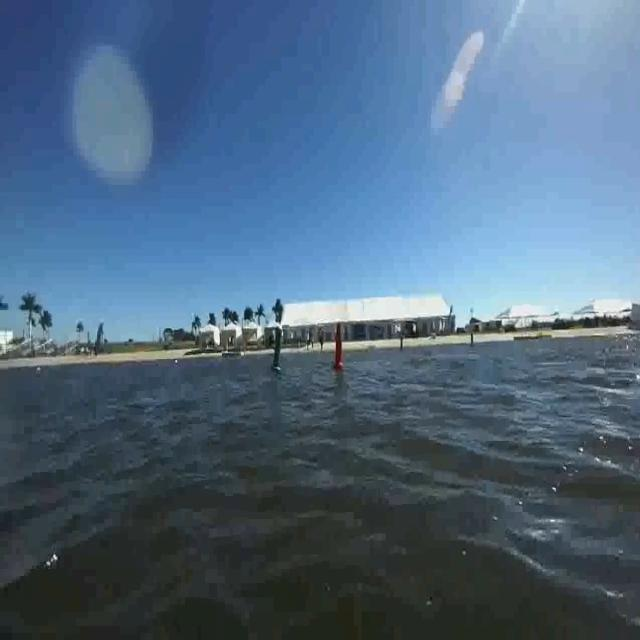green-column-buoy: (272, 326, 286, 370)
red-column-buoy: (333, 323, 348, 371)
